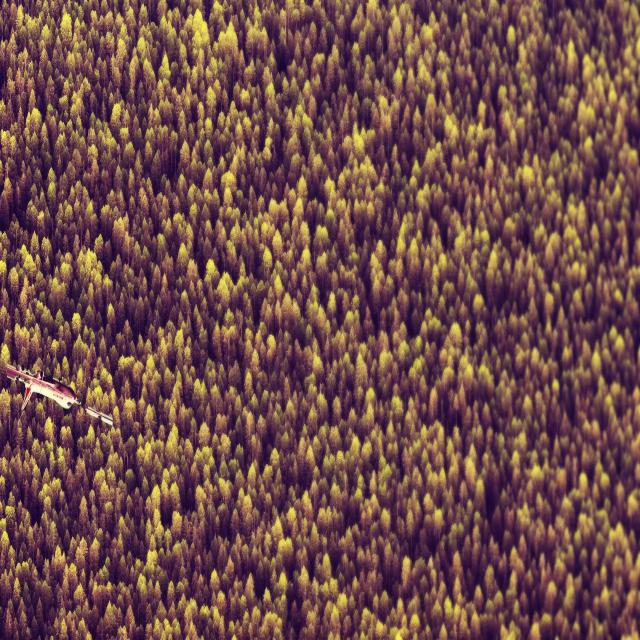airplane: (5, 362, 113, 424)
